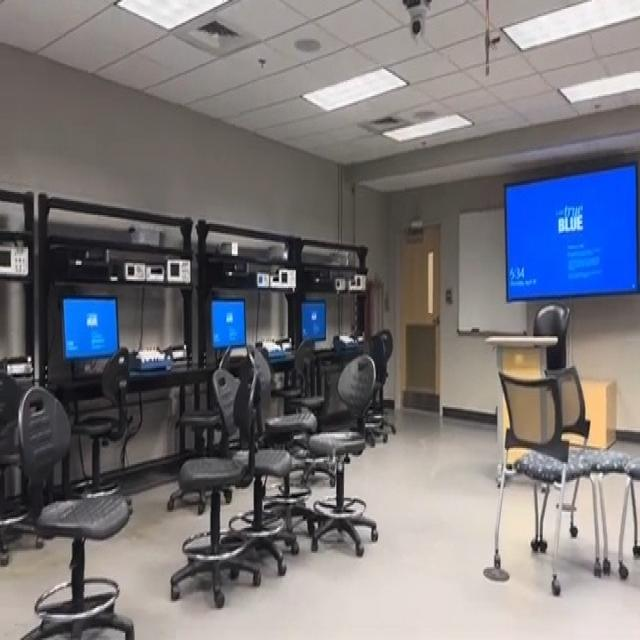drone: (309, 437, 354, 483)
